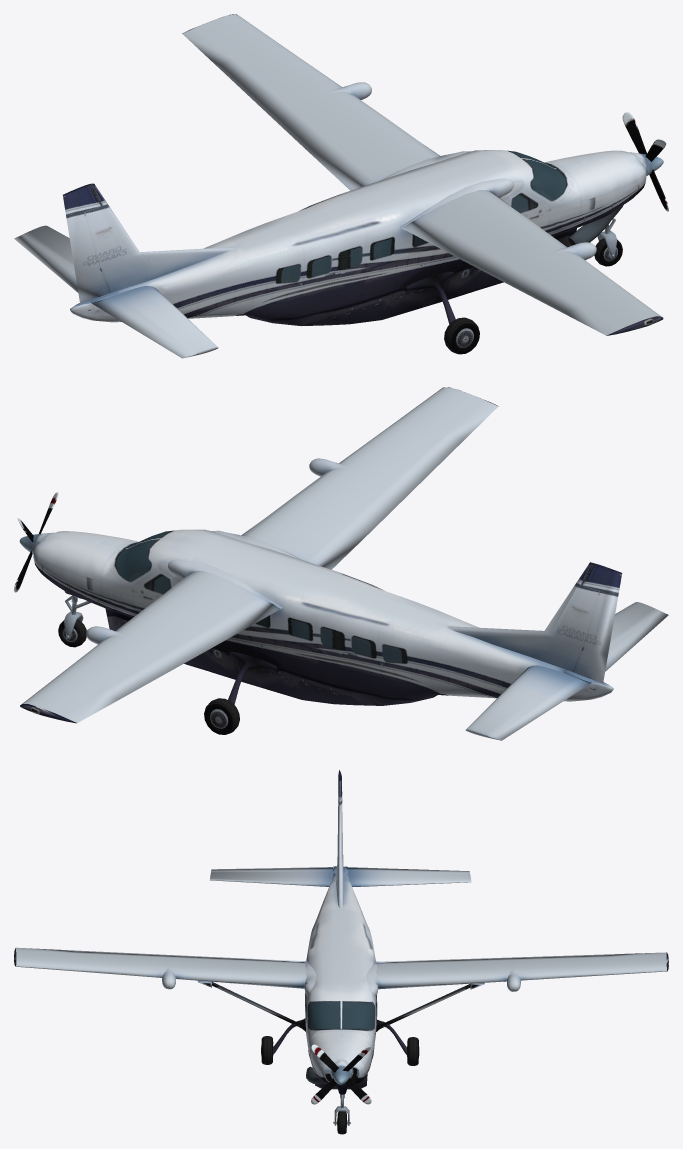
3 views of the same model, one above another, from view 1: azimuth 30°, elevation 25°; view 2: azimuth 150°, elevation 25°; view 3: azimuth 270°, elevation 25° (orthographic). The views are drawn at different scales.
Visible parts, largest first — view 1: Cessna_208, Cessna_208.001, Cessna_208.002, Cessna_208.003; view 2: Cessna_208, Cessna_208.002, Cessna_208.001, Cessna_208.003; view 3: Cessna_208, Cessna_208.001, Cessna_208.002, Cessna_208.003.
Boxes of the visible parts, x1,y1,x2,y2 form: Cessna_208: (14,150,646,358); Cessna_208.001: (182,14,439,190); Cessna_208.002: (402,190,663,335); Cessna_208.003: (622,112,668,211); Cessna_208: (33,529,668,740); Cessna_208.002: (241,387,498,569); Cessna_208.001: (20,571,280,723); Cessna_208.003: (14,492,58,592); Cessna_208: (210,770,471,1134); Cessna_208.001: (376,952,668,1028); Cessna_208.002: (14,947,306,1028); Cessna_208.003: (311,1044,371,1104).
Bounding box in the file's own units: 16.31 × 5.56 × 19.99.
Materials: 1 (1 with a texture image).
